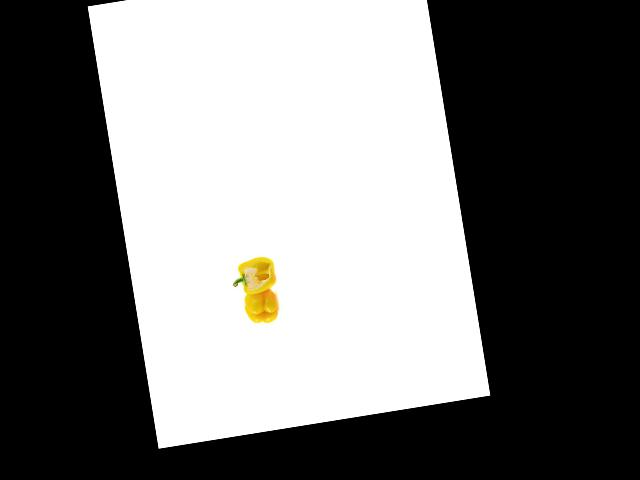bell_pepper: (228, 251, 287, 303)
